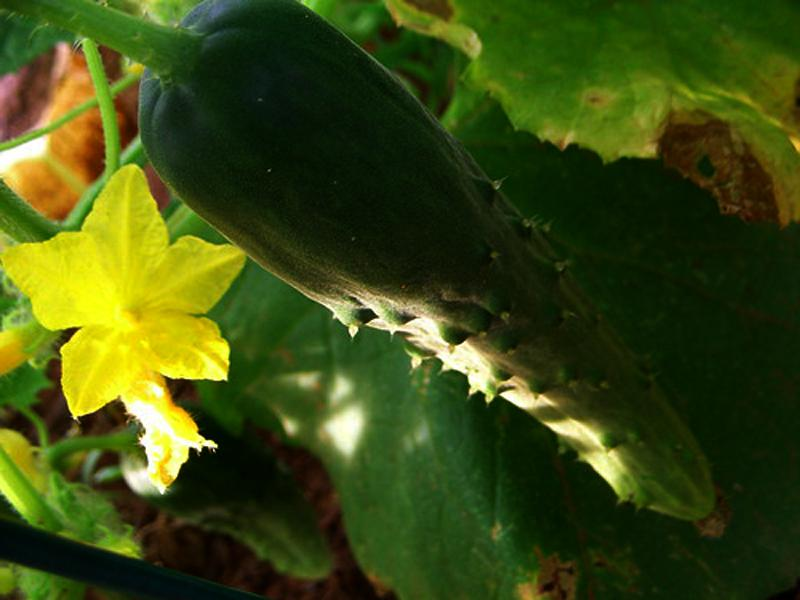Cucumber: (138, 2, 730, 539)
